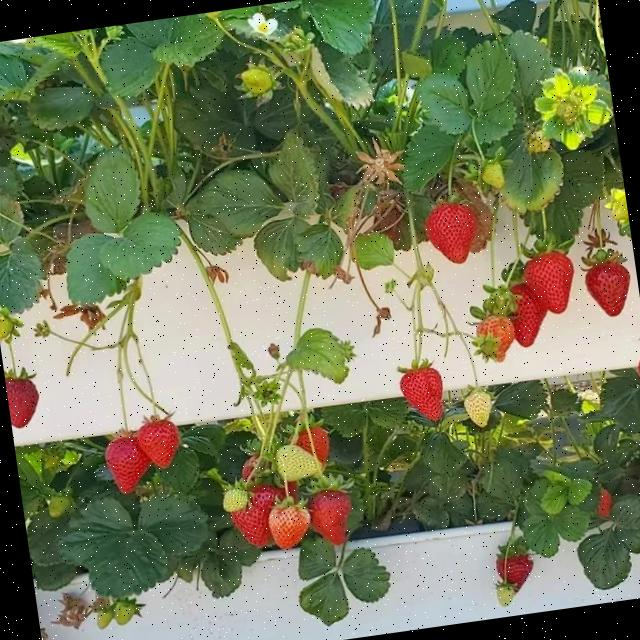Ripe Strawberry: (424, 200, 482, 267), (524, 251, 580, 318), (501, 281, 550, 349), (230, 484, 284, 545), (585, 260, 636, 320), (105, 434, 155, 494), (305, 488, 355, 544), (398, 368, 447, 423), (244, 454, 298, 502), (138, 417, 182, 470), (5, 375, 45, 429), (494, 547, 536, 593), (298, 427, 330, 466), (592, 488, 612, 516), (637, 355, 640, 385)
